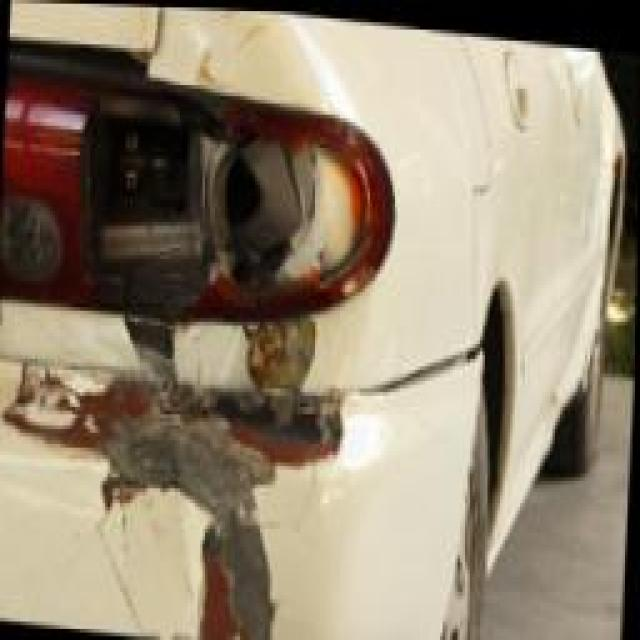Bumper: (0, 359, 341, 640)
Fender: (225, 296, 361, 397)
Light: (0, 59, 387, 346)
